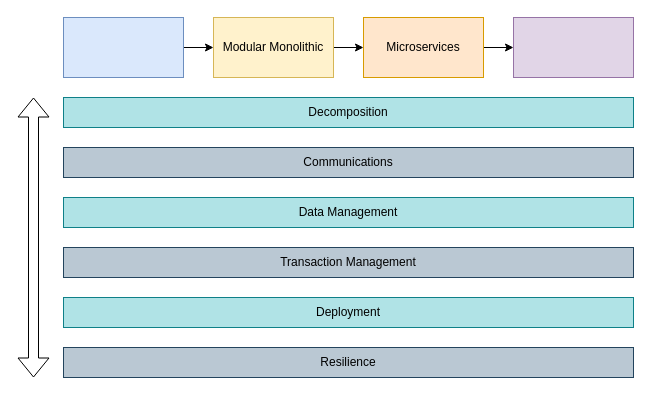
This 651x395 diagram has some shape labels left out. Each missing label, with the centre of its shape:
"Monolithic" goes at (123,47).
"Serverless" goes at (573,47).
